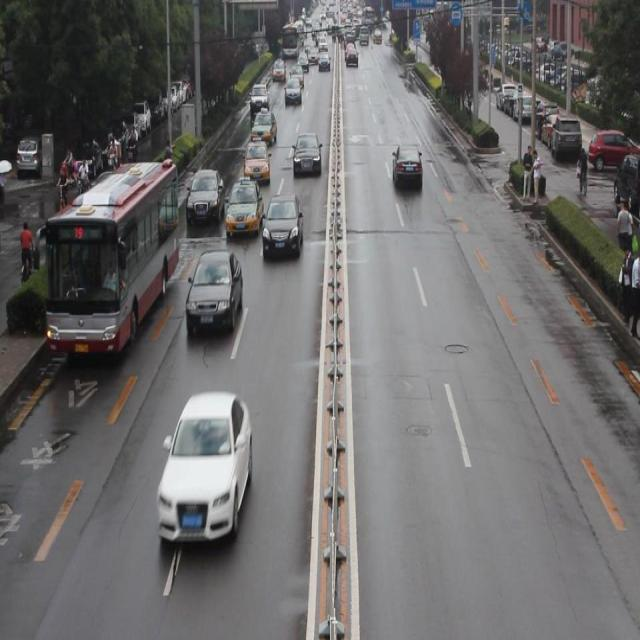car: (155, 391, 252, 542), (185, 248, 242, 338), (263, 193, 303, 262), (91, 172, 151, 216), (224, 173, 264, 235), (187, 166, 224, 223), (291, 129, 322, 177), (391, 144, 422, 190), (242, 138, 270, 186), (253, 107, 278, 145), (250, 81, 270, 116)
van: (36, 157, 180, 354)
